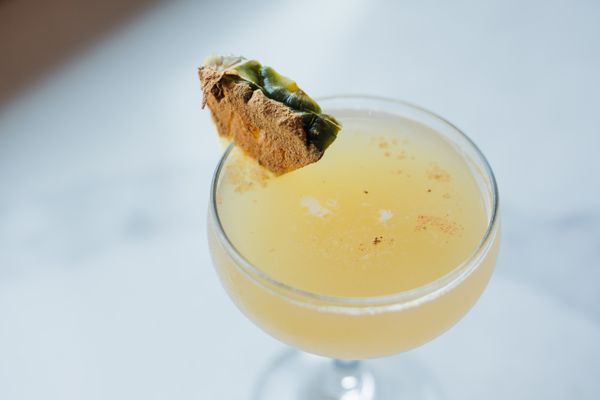sushi: (205, 92, 501, 360)
